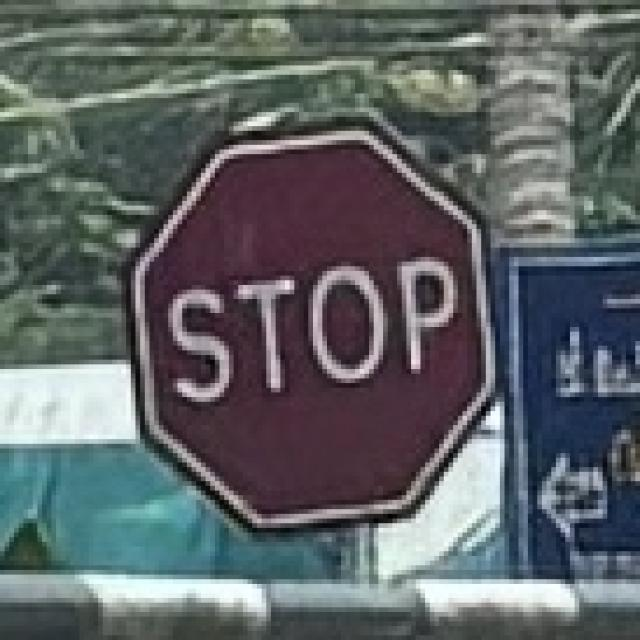STOP: (117, 108, 502, 543)
